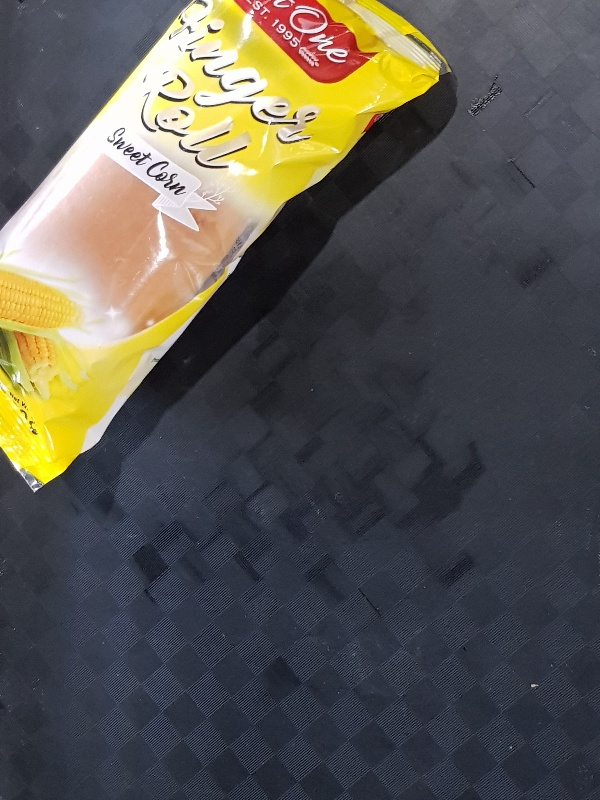Tinges Roll Sweet Corn: (1, 1, 450, 494)
